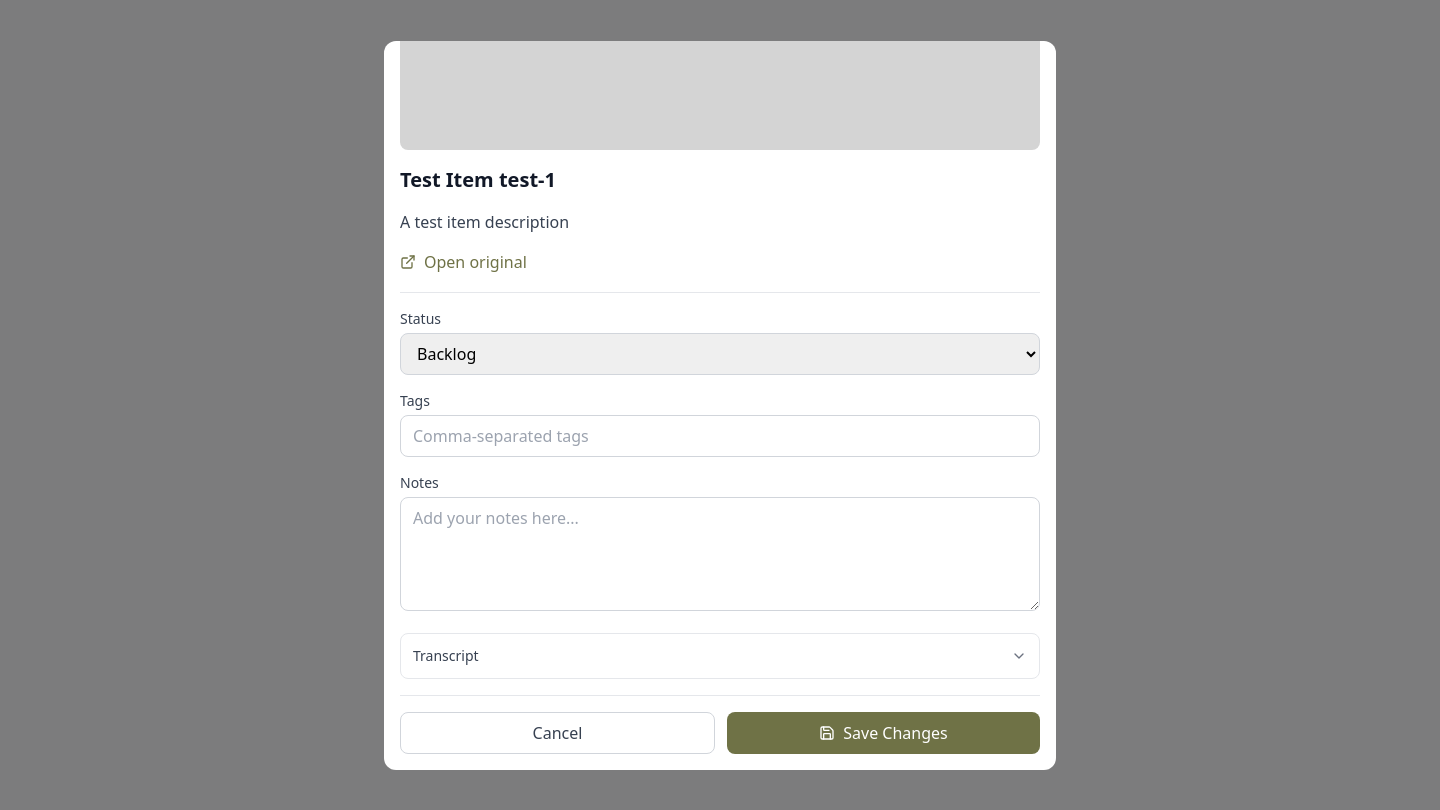
Scenario: InterestDetail › transcript section (YouTube) › shows loading state while fetching
The width and height of the screenshot is (1440, 810).
(page scrolled)
What coordinates should you click on to do the following:
click the button "Transcript"
I would click on:
 (446, 655)
Its box is 401,634 -> 1039,678.
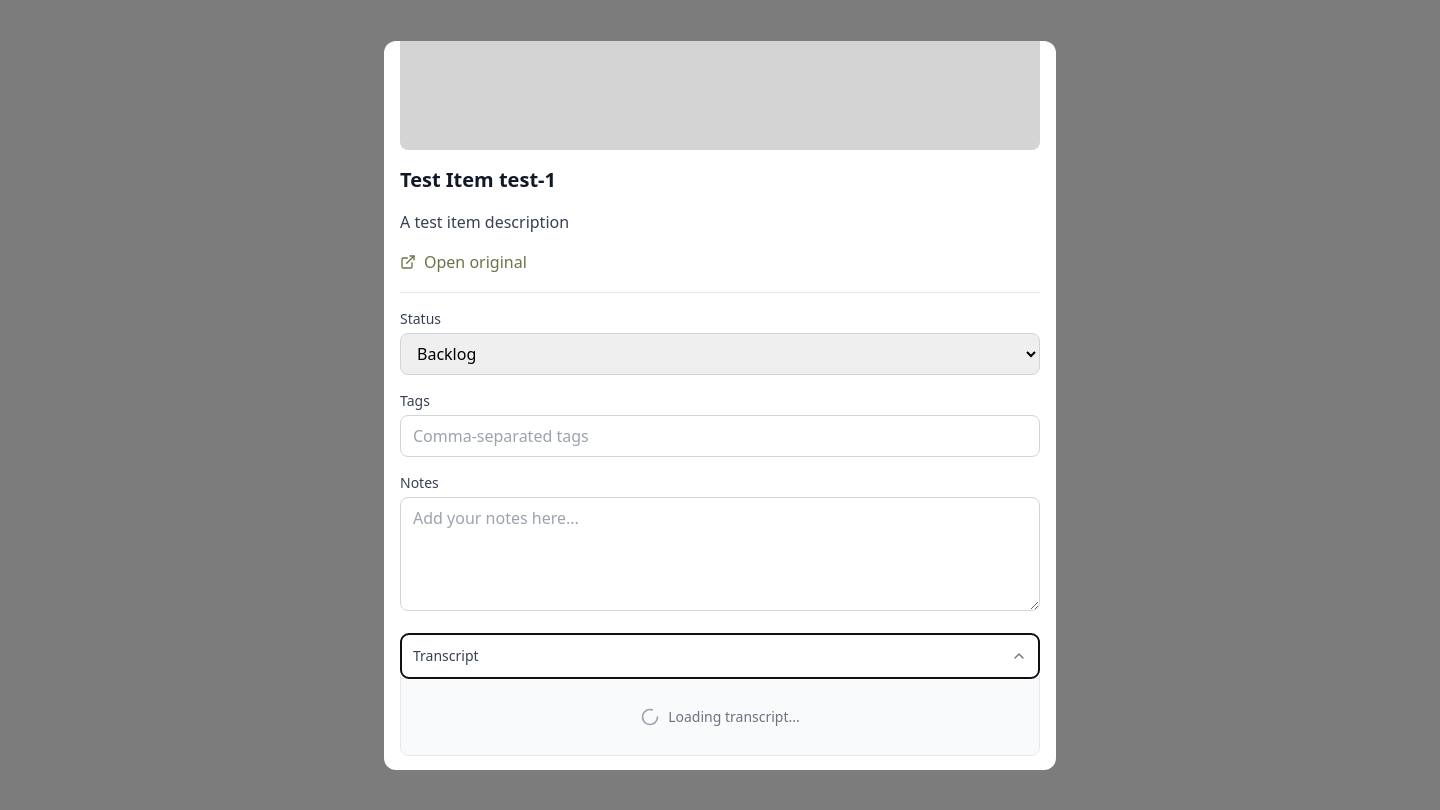
Expected: the text "Loading transcript..." is shown, 668,706 -> 800,726
